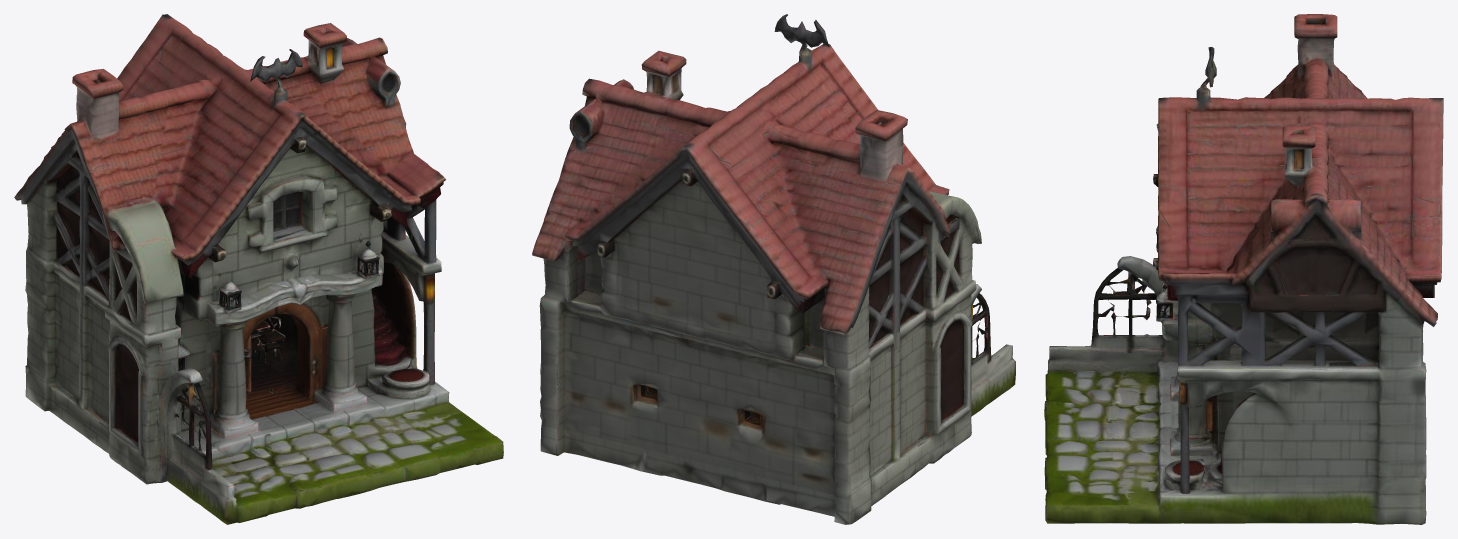
The model's file is Dwarven Building #4_final.glb.
3 renders of one model, left to right at view 1: azimuth 30°, elevation 25°; view 2: azimuth 150°, elevation 25°; view 3: azimuth 270°, elevation 25°, orthographic. The views are drawn at different scales.
Size of the model in its own units: 1.62 by 1.91 by 1.74.
Materials: 1 (1 with a texture image).
